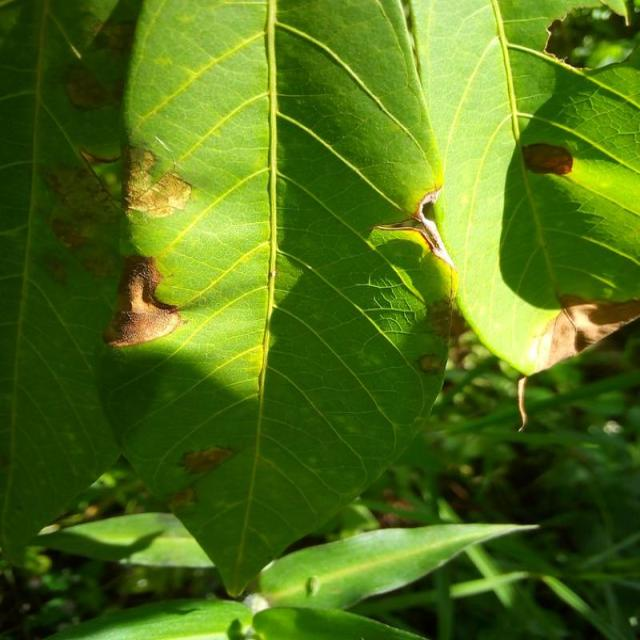cassava leaf: (1, 0, 638, 601)
